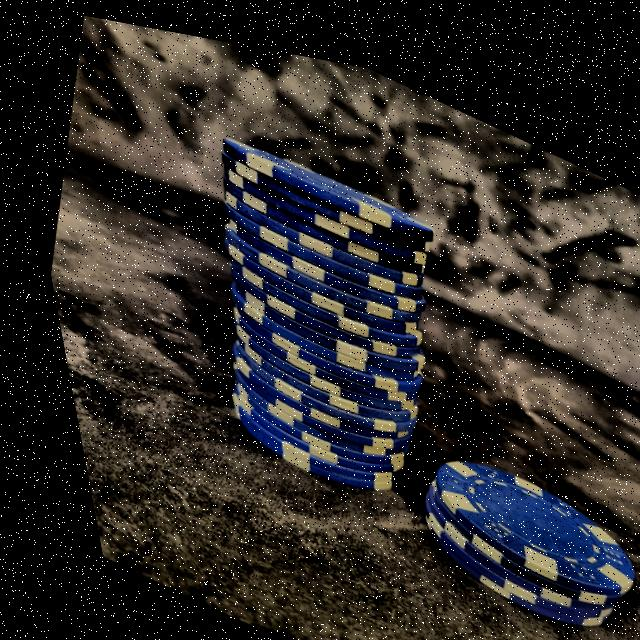Chip: (112, 90, 484, 528), (372, 397, 640, 640)
